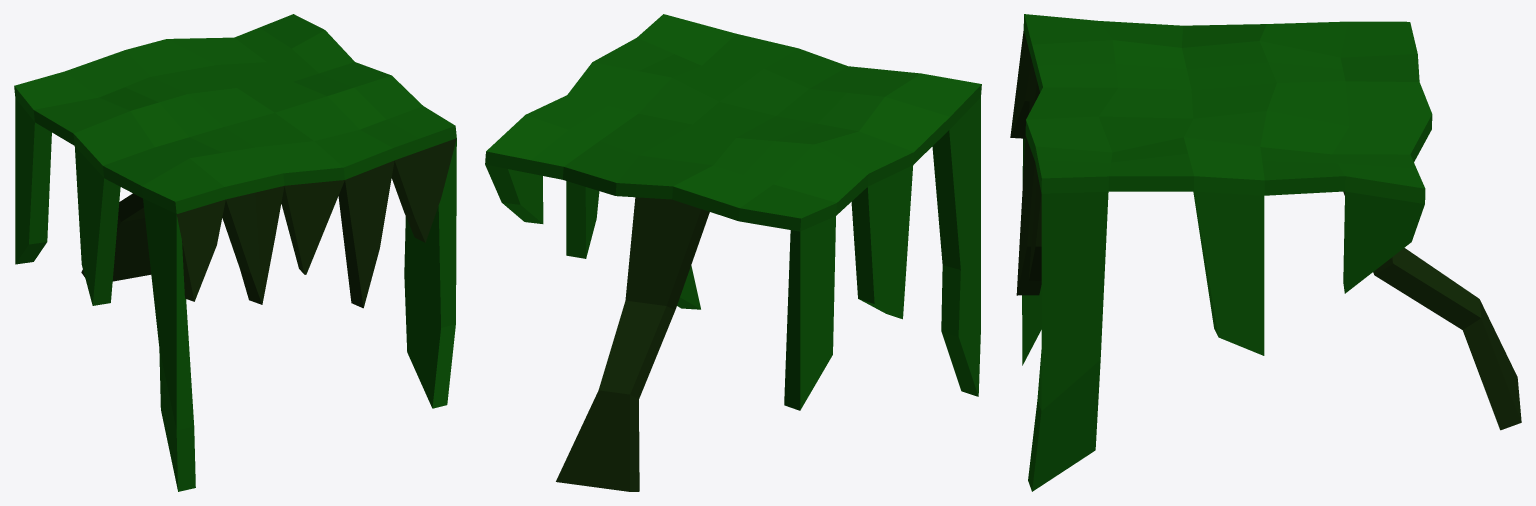
File: PlantPlate.fbx
3 views of the same model, side by side, from view 1: azimuth 30°, elevation 25°; view 2: azimuth 150°, elevation 25°; view 3: azimuth 270°, elevation 25° (orthographic). The views are drawn at different scales.
Parts seen in each view (by area): view 1: Plane; view 2: Plane; view 3: Plane.
Boxes of the visible parts, x1,y1,x2,y2 form: Plane: [14, 14, 456, 491]; Plane: [485, 14, 981, 491]; Plane: [1010, 14, 1521, 491].
Bounding box in the file's own units: 1.05 × 0.9976 × 1.34.
